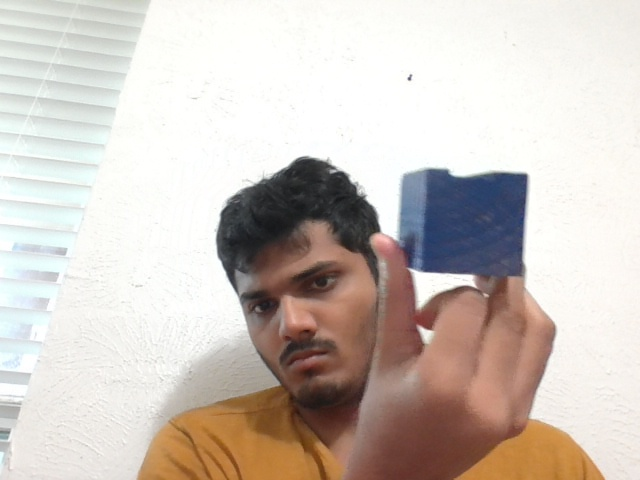BlueBlock: (400, 169, 524, 275)
